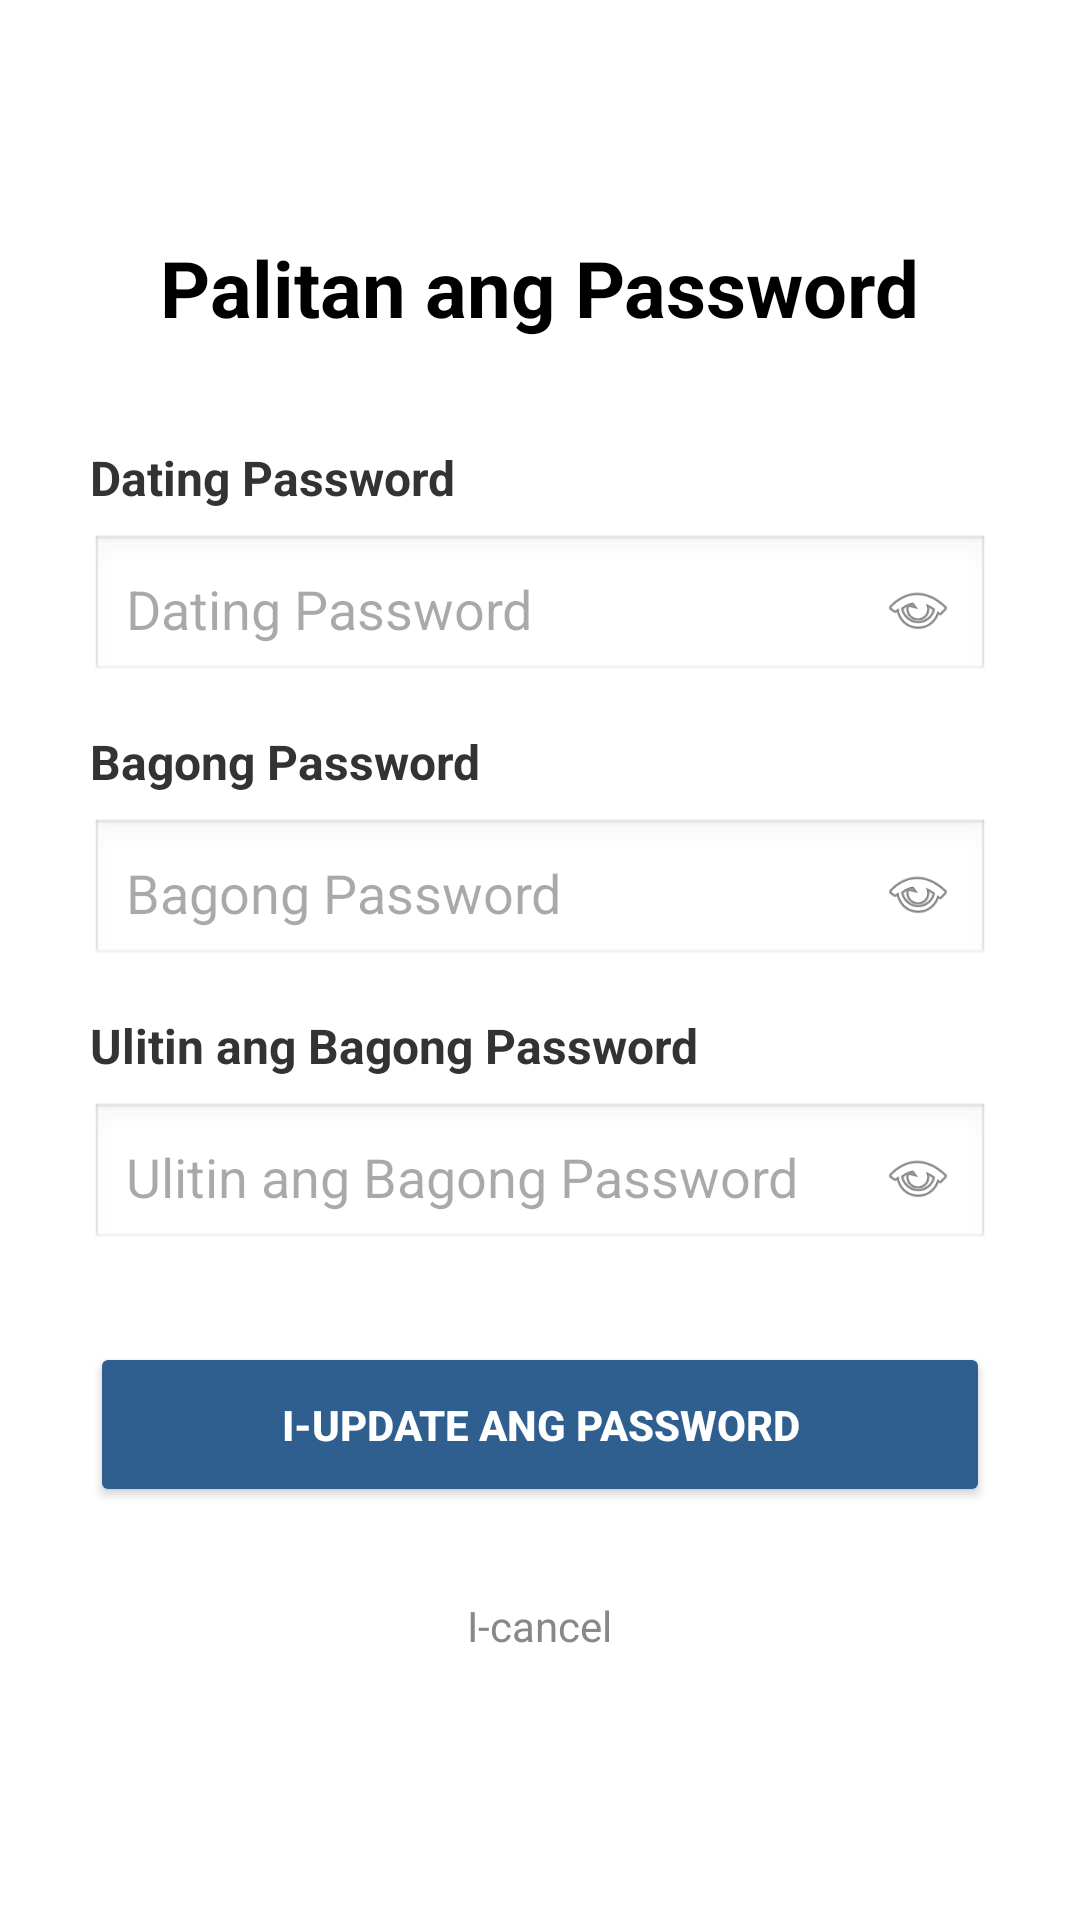

Screen size 1080 × 1920. Icon name, then its center in pixels as point (x, y):
view: point (918, 610), point (918, 894), point (918, 1178)
